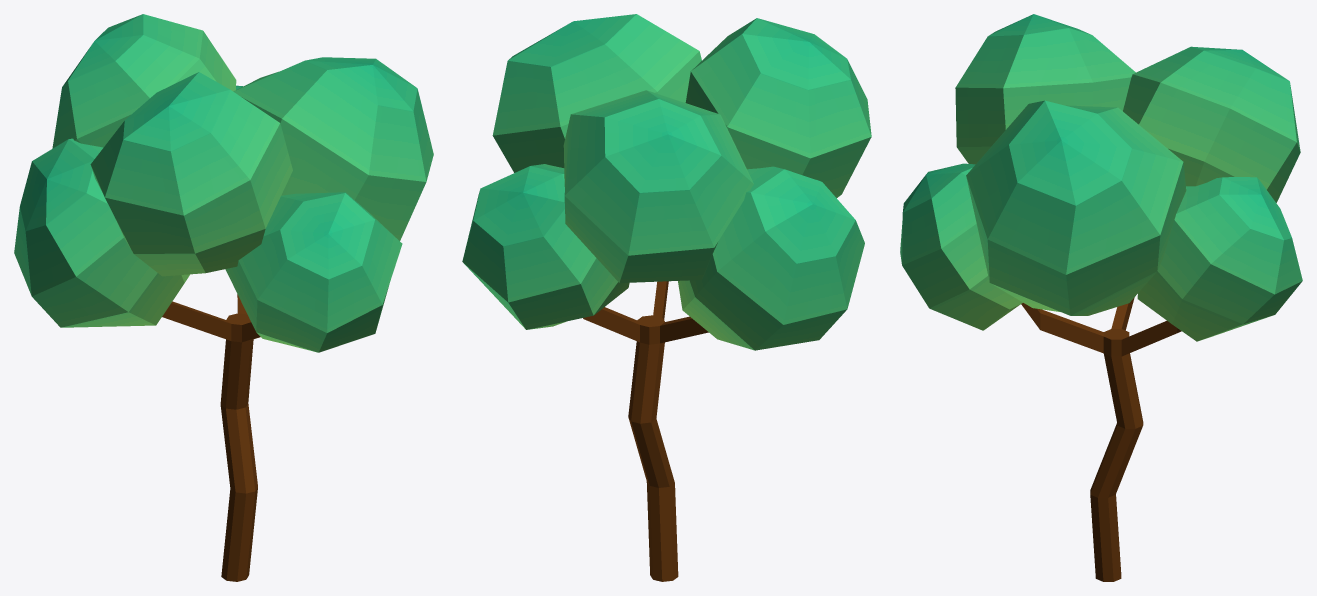
File: tree2.fbx
3 views of the same model, side by side, from view 1: azimuth 30°, elevation 25°; view 2: azimuth 150°, elevation 25°; view 3: azimuth 270°, elevation 25° (orthographic). The views are drawn at different scales.
Parts seen in each view (by area): view 1: Sphere, Cube; view 2: Sphere, Cube; view 3: Sphere, Cube.
Boxes of the visible parts, x1,y1,x2,y2 form: Sphere: (14, 14, 433, 352); Cube: (162, 294, 260, 581); Sphere: (462, 14, 871, 350); Cube: (583, 281, 708, 581); Sphere: (900, 14, 1302, 341); Cube: (1021, 297, 1181, 581).
Bounding box in the file's own units: 1142 × 1576 × 1103.
